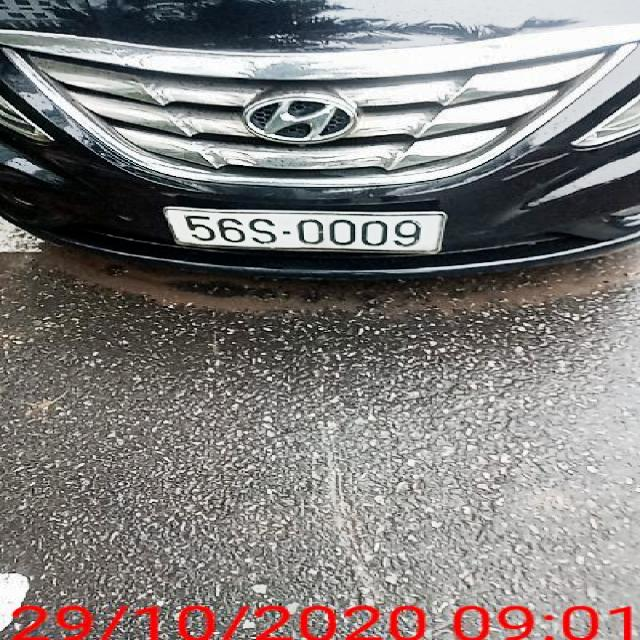license_plate: (167, 210, 445, 257)
